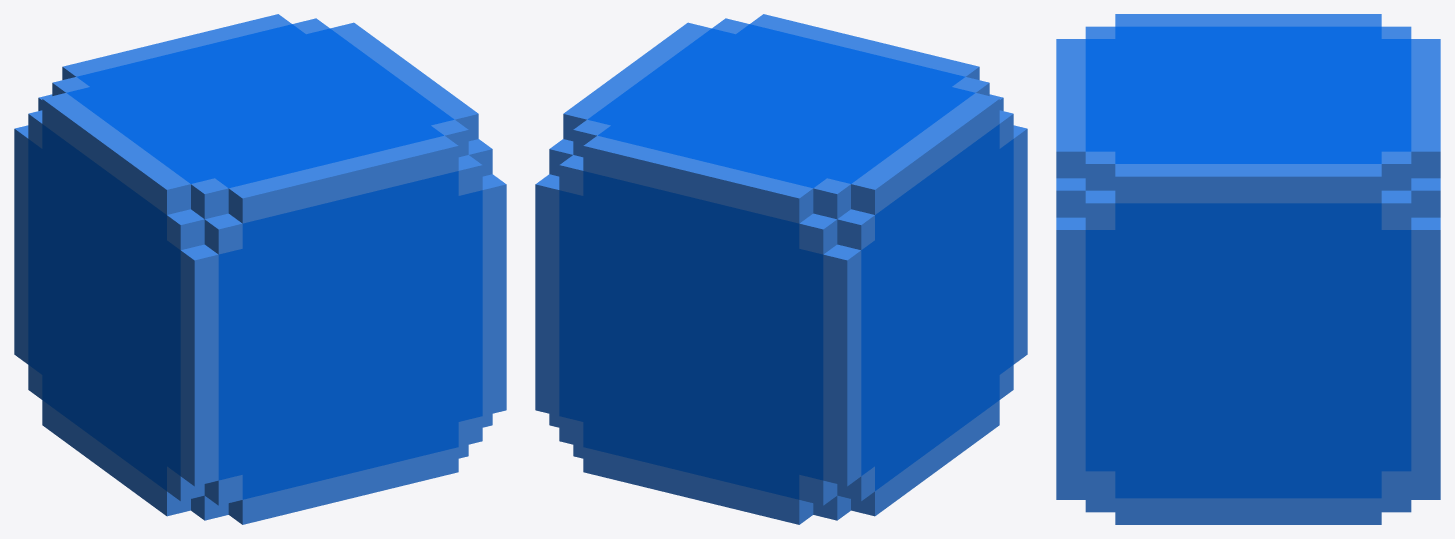
Rendered from cubeSkill.obj.
3 views of the same model, side by side, from view 1: azimuth 30°, elevation 25°; view 2: azimuth 150°, elevation 25°; view 3: azimuth 270°, elevation 25° (orthographic). The views are drawn at different scales.
Bounding box in the file's own units: 1.3 × 1.3 × 1.3.
Materials: 1 (1 with a texture image).
